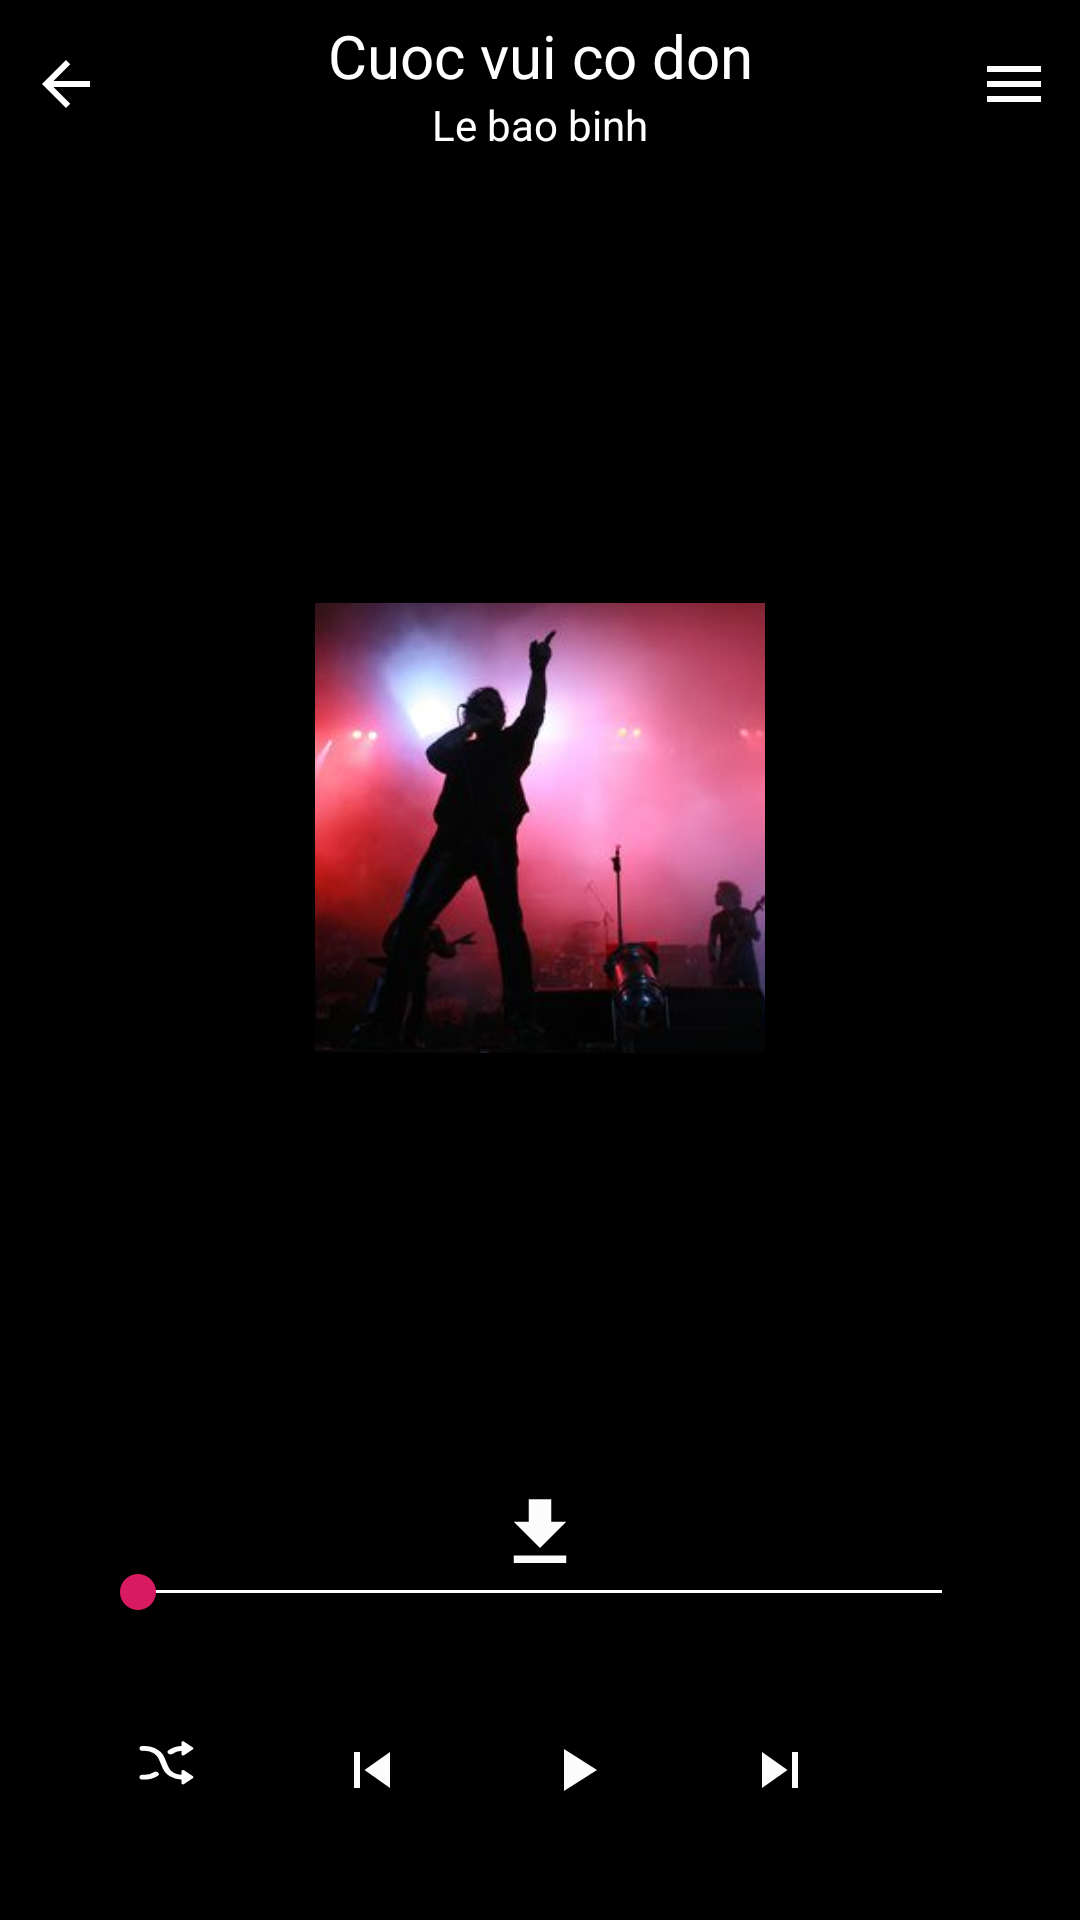

Where to tap for icons on this 1080 × 1920 app screen, as point (x, y):
back: point (66, 84)
download: point (540, 1531)
menu: point (1014, 84)
play arrow: point (580, 1770)
shuffle: point (166, 1763)
skip next: point (780, 1770)
skip previous: point (372, 1770)
